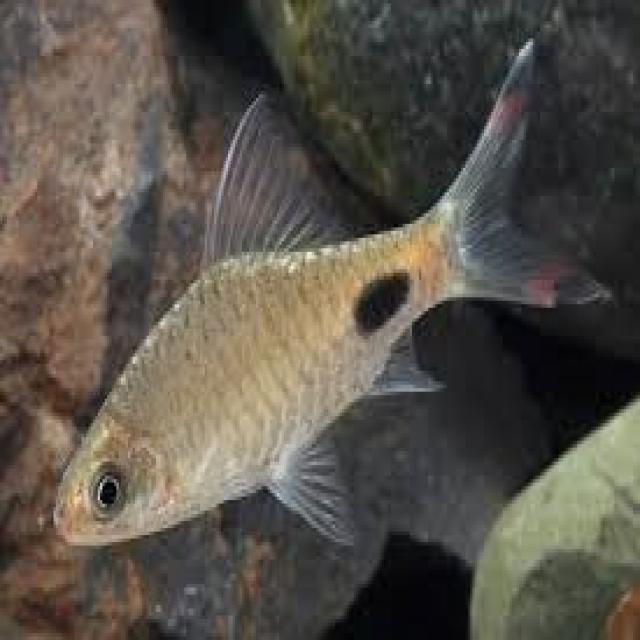Black-Spotted-Barb: (23, 50, 618, 583)
